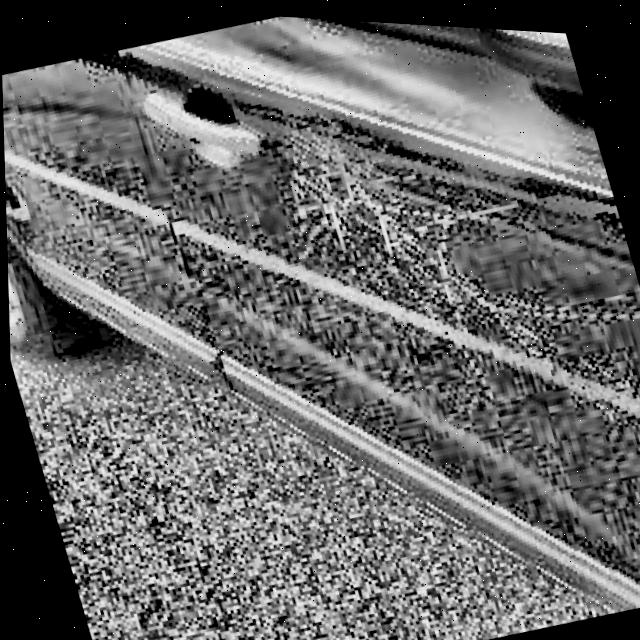door_scratch: (270, 122, 409, 267)
